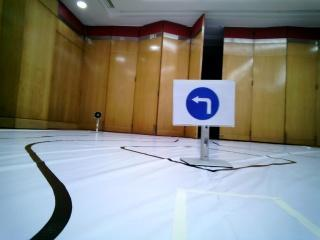left: (175, 78, 237, 126)
